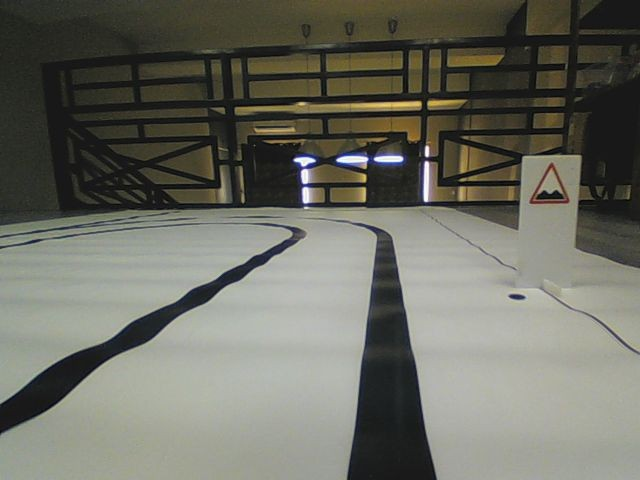Nerov: (528, 161, 570, 205)
